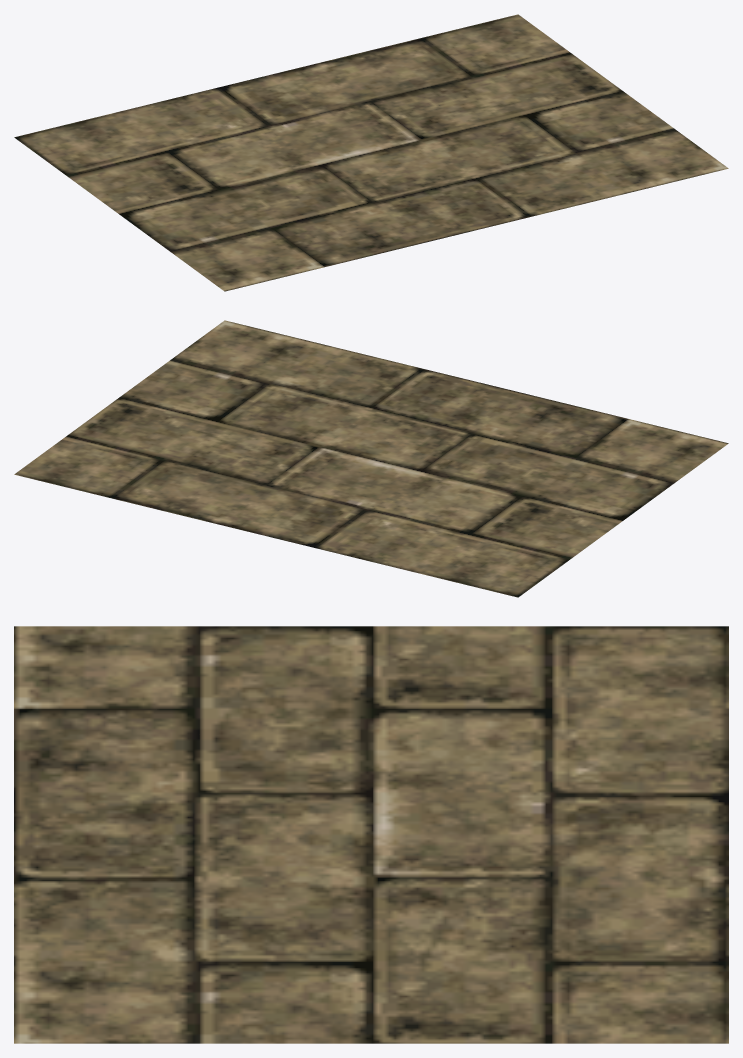
File: OVERHILL_A_01_LINE154.fbx
3 views of the same model, one above another, from view 1: azimuth 30°, elevation 25°; view 2: azimuth 150°, elevation 25°; view 3: azimuth 270°, elevation 25° (orthographic). The views are drawn at different scales.
Parts seen in each view (by area): view 1: OVERHILL_A_01_LINE154; view 2: OVERHILL_A_01_LINE154; view 3: OVERHILL_A_01_LINE154.
Boxes of the visible parts, box(x1,y1,x2,y2) form: OVERHILL_A_01_LINE154: box(14, 14, 728, 291); OVERHILL_A_01_LINE154: box(14, 320, 728, 597); OVERHILL_A_01_LINE154: box(14, 626, 728, 1043).
Size of the model in its own units: 37059 by 0.00437 by 26827.
1 material, 1 textured.
